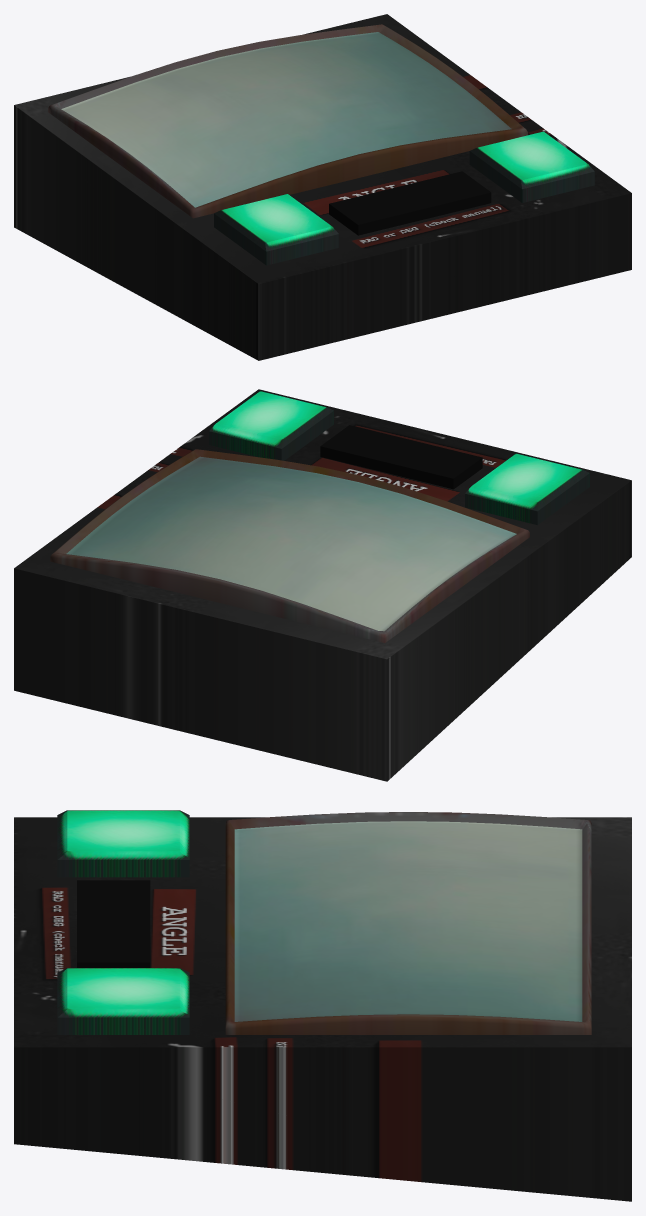
The model's file is NavTerminal.fbx.
3 renders of one model, top to bottom at view 1: azimuth 30°, elevation 25°; view 2: azimuth 150°, elevation 25°; view 3: azimuth 270°, elevation 25°, orthographic. The views are drawn at different scales.
Parts seen in each view (by area): view 1: NavConsole, ButtonR, ButtonL; view 2: NavConsole, ButtonL, ButtonR; view 3: NavConsole, ButtonL, ButtonR.
Boxes of the visible parts, x1=… form: NavConsole: x1=14, y1=14, x2=631, y2=360; ButtonR: x1=469, y1=131, x2=594, y2=202; ButtonL: x1=214, y1=194, x2=338, y2=265; NavConsole: x1=14, y1=389, x2=631, y2=781; ButtonL: x1=465, y1=453, x2=589, y2=524; ButtonR: x1=209, y1=391, x2=333, y2=460; NavConsole: x1=14, y1=812, x2=631, y2=1201; ButtonL: x1=57, y1=810, x2=189, y2=877; ButtonR: x1=57, y1=968, x2=189, y2=1034.
Bounding box in the file's own units: 0.2832 × 0.3216 × 0.1102.
